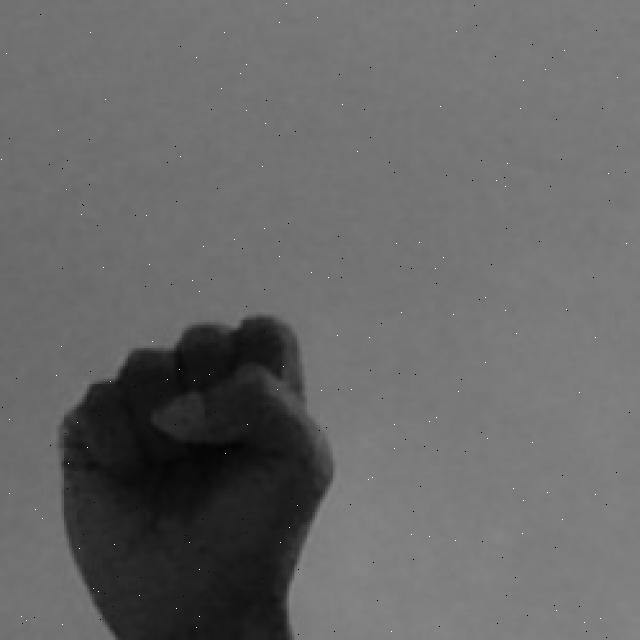S: (49, 307, 333, 640)
